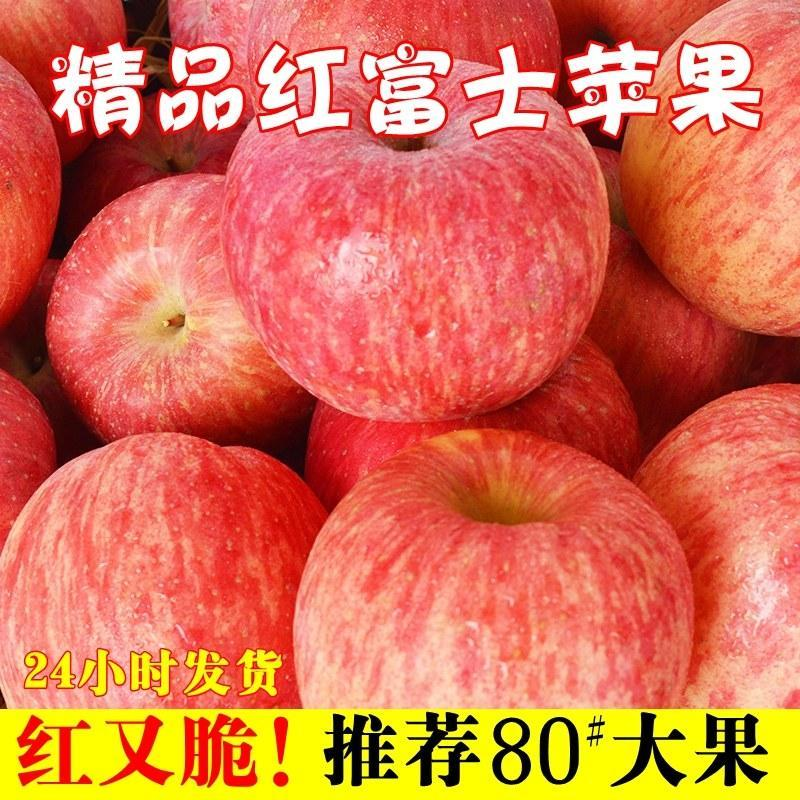apple: (223, 59, 610, 424), (291, 424, 692, 709), (2, 435, 325, 708), (42, 171, 311, 459), (613, 1, 798, 331), (300, 331, 643, 498), (629, 387, 800, 712), (1, 3, 134, 164), (1, 367, 55, 550)
